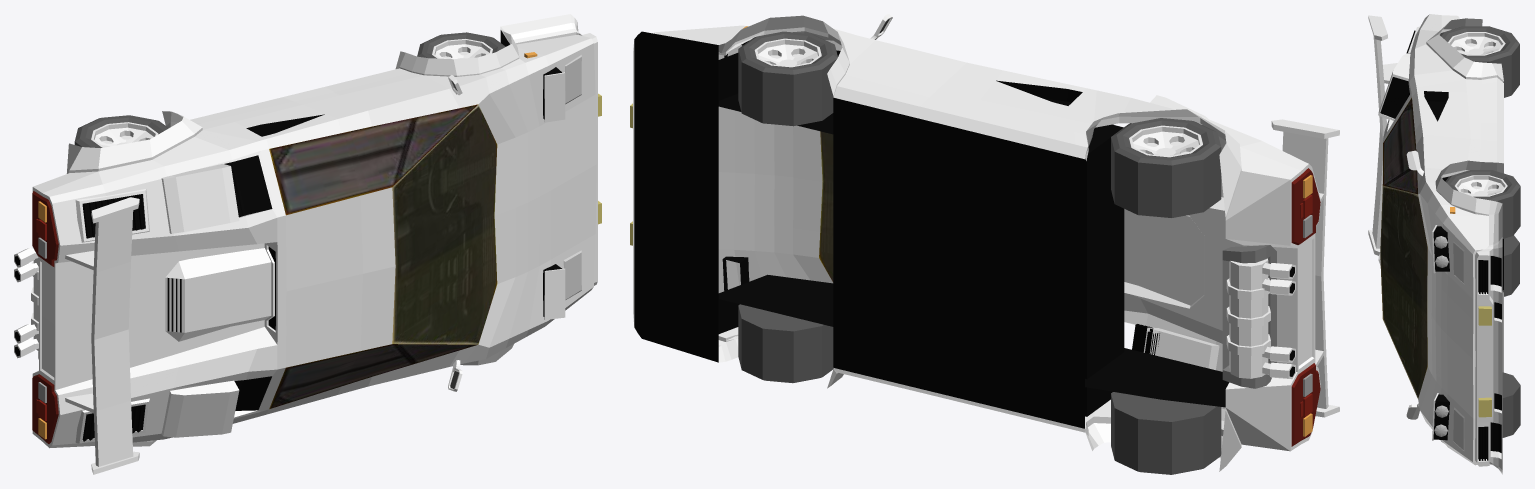
File: countach3lowpoly.glb
The picture shows the model from 3 angles, left to right: view 1: azimuth 30°, elevation 25°; view 2: azimuth 150°, elevation 25°; view 3: azimuth 270°, elevation 25°; orthographic projection. The views are drawn at different scales.
Parts seen in each view (by area): view 1: Countach.retopo, Spoiler, AirIntake2, AirIntake, Countach.retopo.001, Countach.retopo.002, FrontLights, Cylinder.011, Cylinder.010, Exaust; view 2: Countach.retopo, Plane.002, Plane.003, Cylinder.011, Cylinder.010, Cube.002, Plane.004, Plane.005, Pre-exaust, Spoiler, Countach.retopo.002, Countach.retopo.001 (+3 smaller); view 3: Countach.retopo, Countach.retopo.001, Cylinder.011, Cylinder.010, Spoiler, Countach.retopo.002, FrontLights, AirIntake, Mirrors.
Boxes of the visible parts, x1,y1,x2,y2 form: Countach.retopo: (32, 35, 596, 448); Spoiler: (65, 197, 139, 474); AirIntake2: (165, 248, 271, 341); AirIntake: (161, 164, 239, 437); Countach.retopo.001: (395, 14, 601, 365); Countach.retopo.002: (66, 111, 202, 446); FrontLights: (543, 67, 565, 319); Cylinder.011: (74, 115, 168, 147); Cylinder.010: (417, 32, 505, 59); Exaust: (14, 248, 38, 358); Countach.retopo: (654, 25, 1320, 451); Plane.002: (833, 97, 1084, 428); Plane.003: (634, 31, 718, 362); Cylinder.011: (1111, 118, 1221, 474); Cylinder.010: (738, 31, 837, 383); Cube.002: (1085, 124, 1124, 416); Plane.004: (718, 50, 840, 333); Plane.005: (1085, 348, 1229, 407); Pre-exaust: (1226, 258, 1270, 378); Spoiler: (1271, 119, 1339, 417); Countach.retopo.002: (1085, 109, 1241, 471); Countach.retopo.001: (630, 15, 849, 388); Countach.retopo: (1380, 14, 1503, 465); Countach.retopo.001: (1435, 160, 1503, 474); Cylinder.011: (1440, 26, 1519, 296); Cylinder.010: (1445, 170, 1520, 437); Spoiler: (1368, 15, 1397, 255); Countach.retopo.002: (1426, 18, 1503, 292); FrontLights: (1432, 225, 1449, 440); AirIntake: (1378, 53, 1410, 265); Mirrors: (1406, 150, 1423, 419).
Size of the model in its own units: 2.83 by 1.45 by 0.7437.
14 materials, 2 textured.
